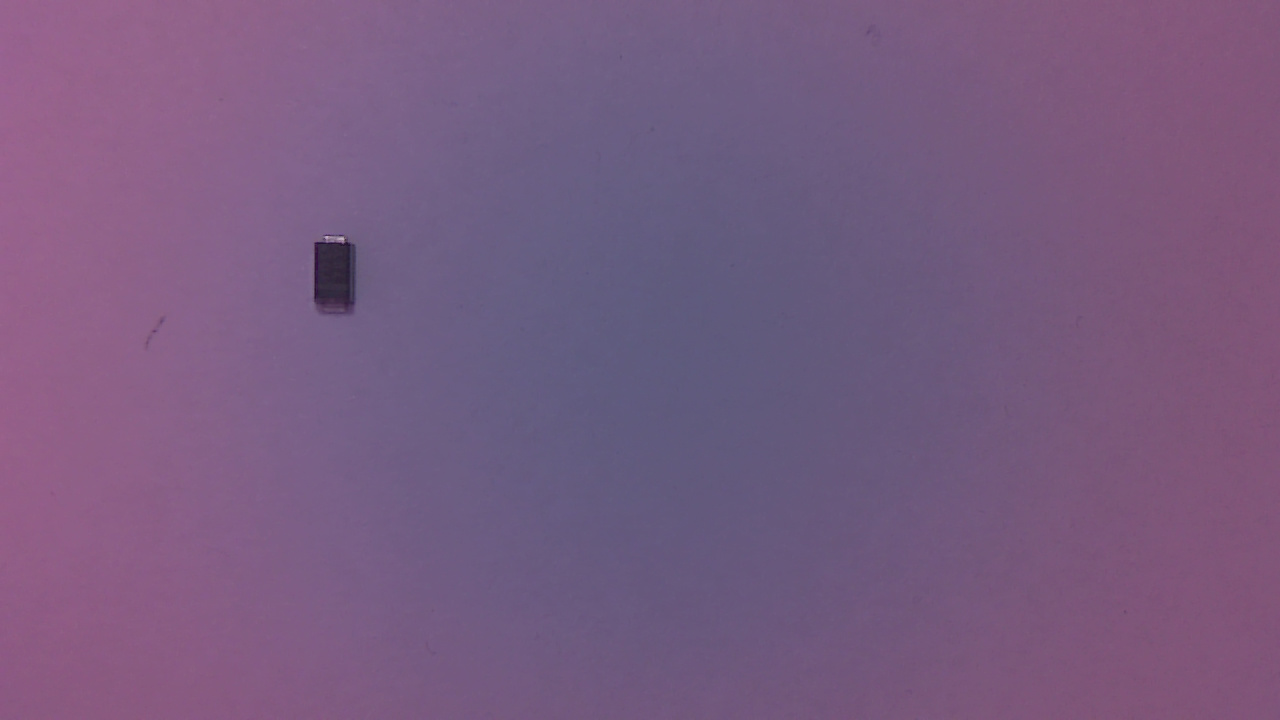Diode: (310, 238, 373, 324)
